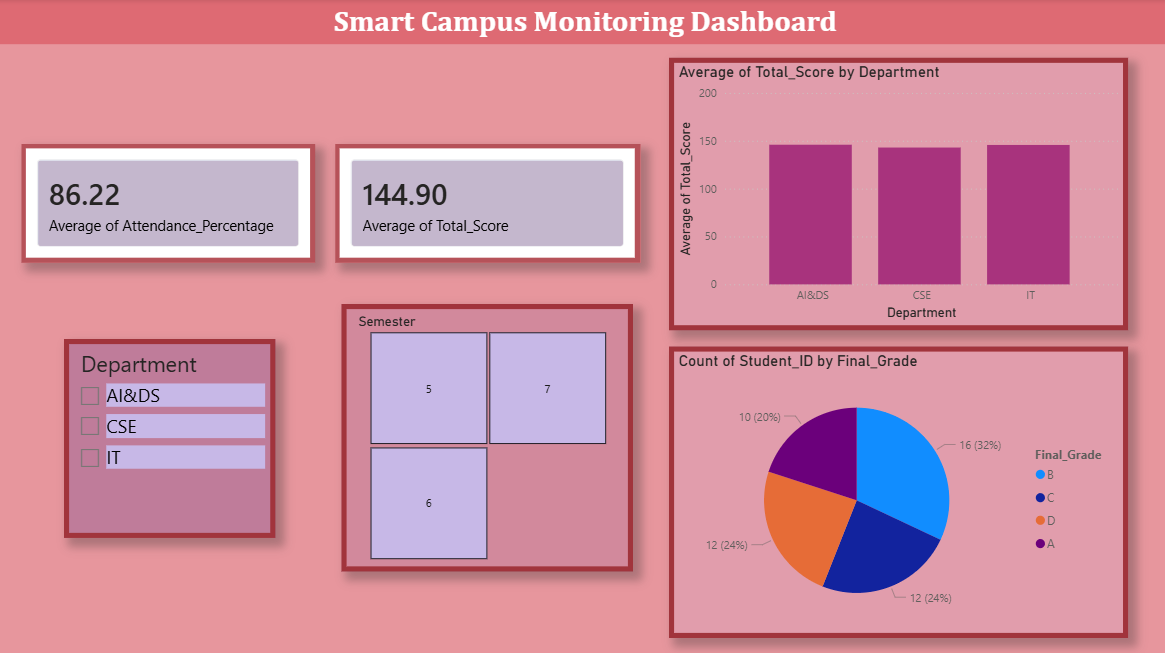

Layout of this report page (visuals, bound fields, positions):
{"tool":"powerbi","page":{"name":"Page 1","canvas":[1280,720],"ordinal":0},"visuals":[{"type":"textbox","box":[0,0,1280.3,49.4],"z":0},{"type":"cardVisual","fields":{"Data":["Avg(5 student_performance.Attendance_Percentage)"]},"box":[24.7,159.2,322.5,130.4],"z":1000},{"type":"cardVisual","fields":{"Data":["Avg(5 student_performance.Total_Score)"]},"box":[369.1,159.2,334.8,130.4],"z":2000},{"type":"slicer","fields":{"Values":["5 student_performance.Department"]},"box":[71.7,373.3,231.7,218.3],"z":3000},{"type":"slicer","fields":{"Values":["5 student_performance.Semester"]},"box":[376.7,335,320,293.3],"z":4000},{"type":"clusteredColumnChart","fields":{"Y":["Avg(5 student_performance.Total_Score)"],"Category":["5 student_performance.Department","5 student_performance.Semester","5 student_performance.Subject"]},"box":[735.9,63.9,504.3,299.2],"z":5000},{"type":"pieChart","fields":{"Category":["5 student_performance.Final_Grade"],"Y":["CountNonNull(5 student_performance.Student_ID)"]},"box":[735.9,381.2,504.3,319.7],"z":6000}]}

Visuals, with their boxes in screenshot pixels (x1, y1, x2, y2), scaled from the page's 1280x720 canvas onto the 1165x653 screenshot:
textbox: (x1=0, y1=0, x2=1164, y2=45)
cardVisual - Avg(5 student_performance.Attendance_Percentage): (x1=22, y1=144, x2=316, y2=263)
cardVisual - Avg(5 student_performance.Total_Score): (x1=336, y1=144, x2=641, y2=263)
slicer - 5 student_performance.Department: (x1=65, y1=339, x2=276, y2=537)
slicer - 5 student_performance.Semester: (x1=343, y1=304, x2=634, y2=570)
clusteredColumnChart - Avg(5 student_performance.Total_Score) x 5 student_performance.Department: (x1=670, y1=58, x2=1129, y2=329)
pieChart - 5 student_performance.Final_Grade x CountNonNull(5 student_performance.Student_ID): (x1=670, y1=346, x2=1129, y2=636)
